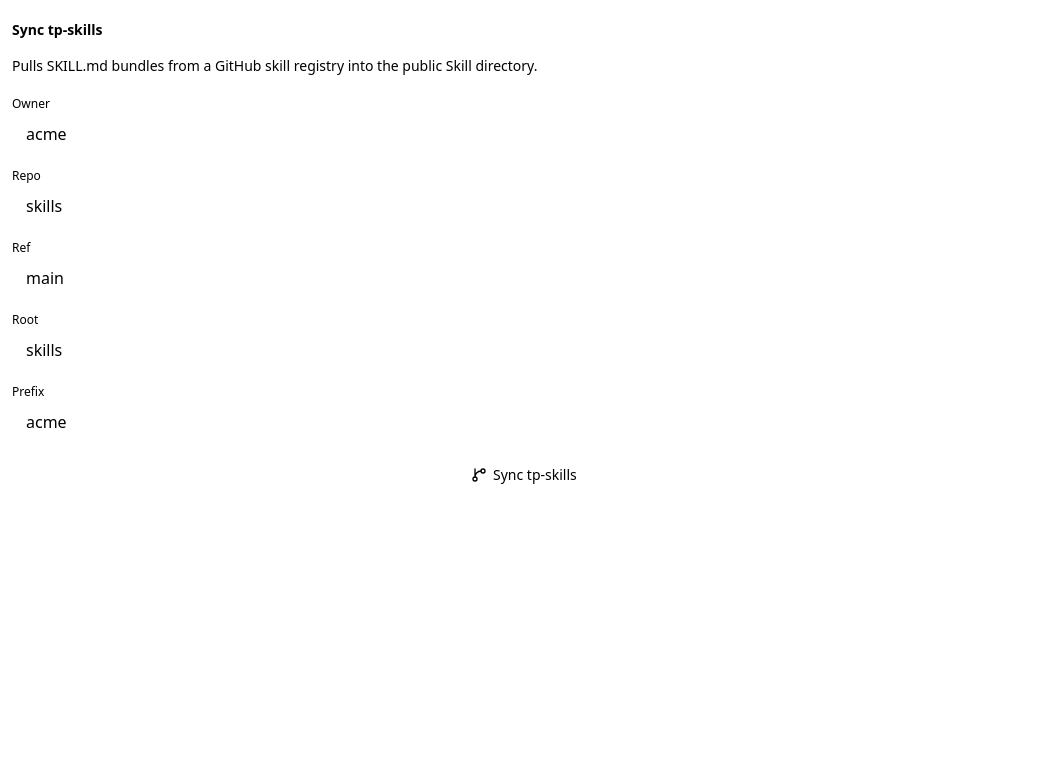
it: registry synchronization failures › presents a failed sync without offering a file retry when no files were processed
Click the button "Sync tp-skills" at (524, 476), box x1=12 y1=456 x2=1036 y2=496
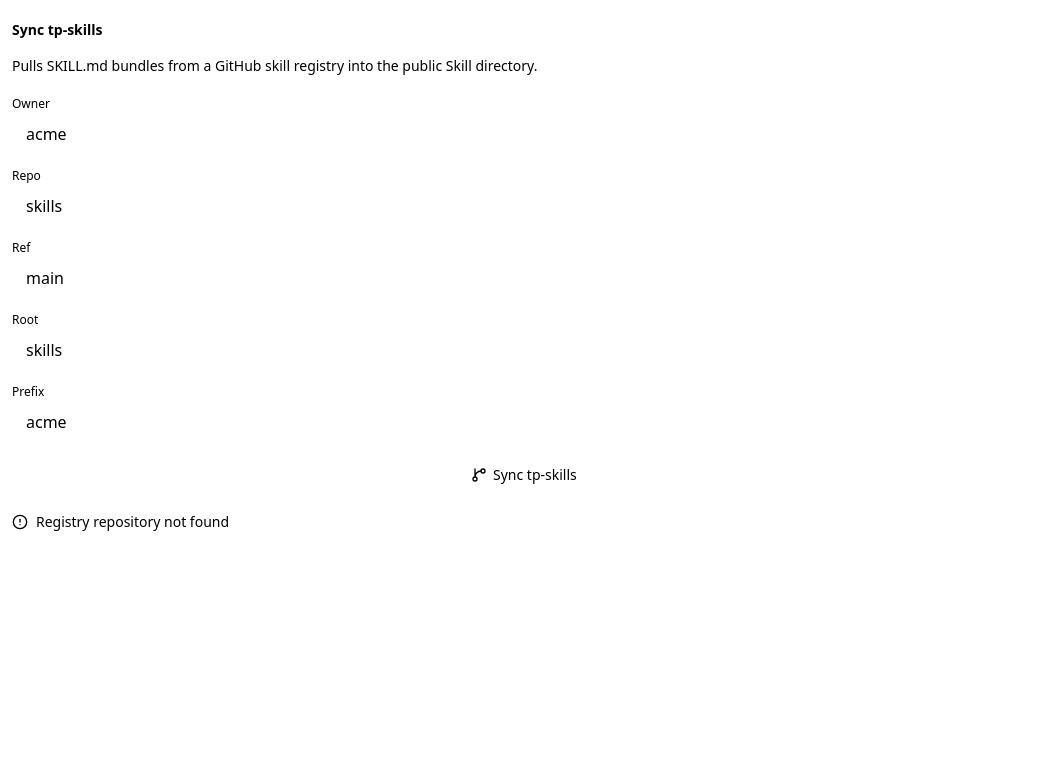
Check: the message reads "Registry repository not found", box x1=36 y1=512 x2=229 y2=531
